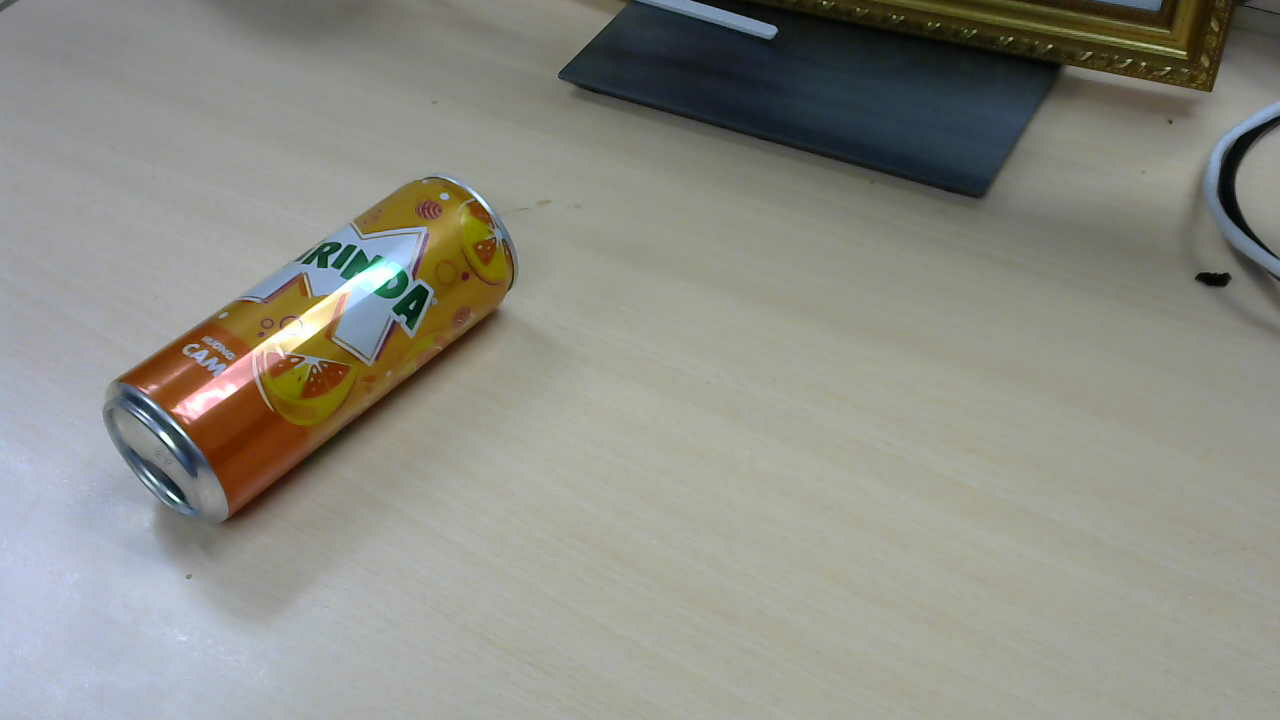Mirinda: (109, 179, 521, 529)
